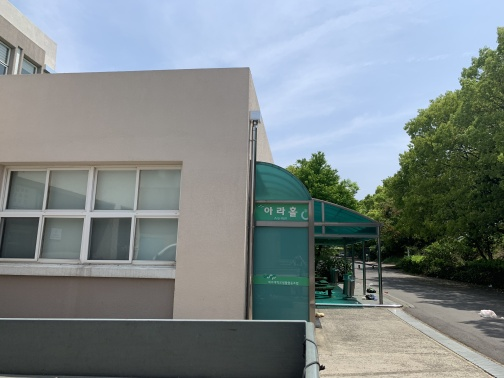Ara Hall: (2, 77, 384, 331)
